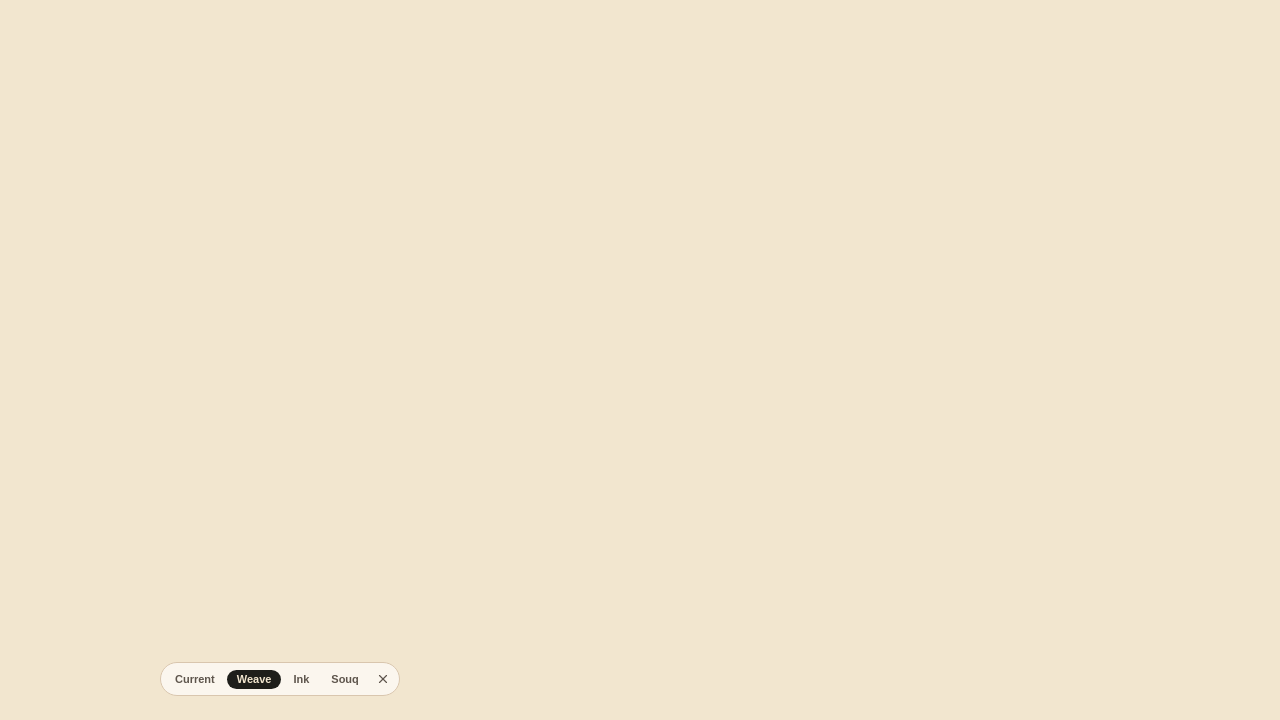
Test: BrandPreviewSwitcher › switches direction on click, on <html> and in storage
The width and height of the screenshot is (1280, 720).
Click the button with aria-label "Preview the Souq direction": (345, 679) [321, 670, 369, 688]
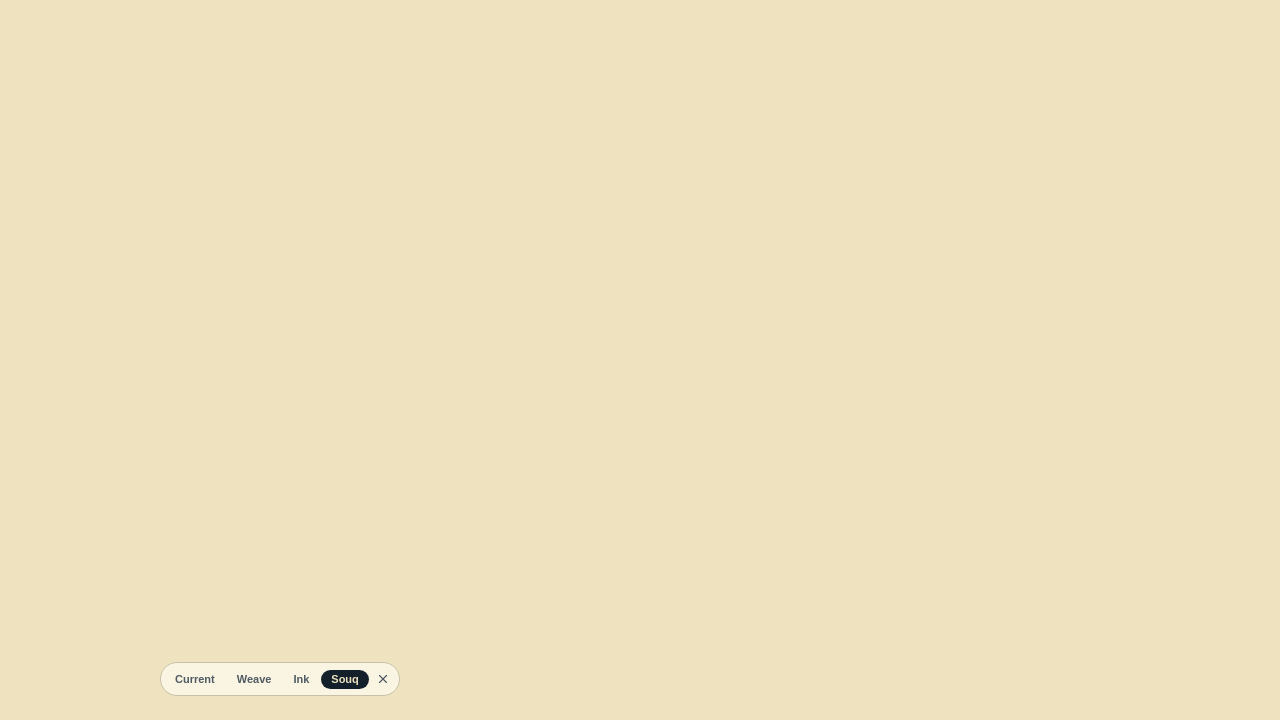
Result: the button with aria-label "Preview the Souq direction" is pressed at [321, 670, 369, 688]
Result: the button with aria-label "Preview the Weave direction" is not pressed at [227, 670, 281, 688]
